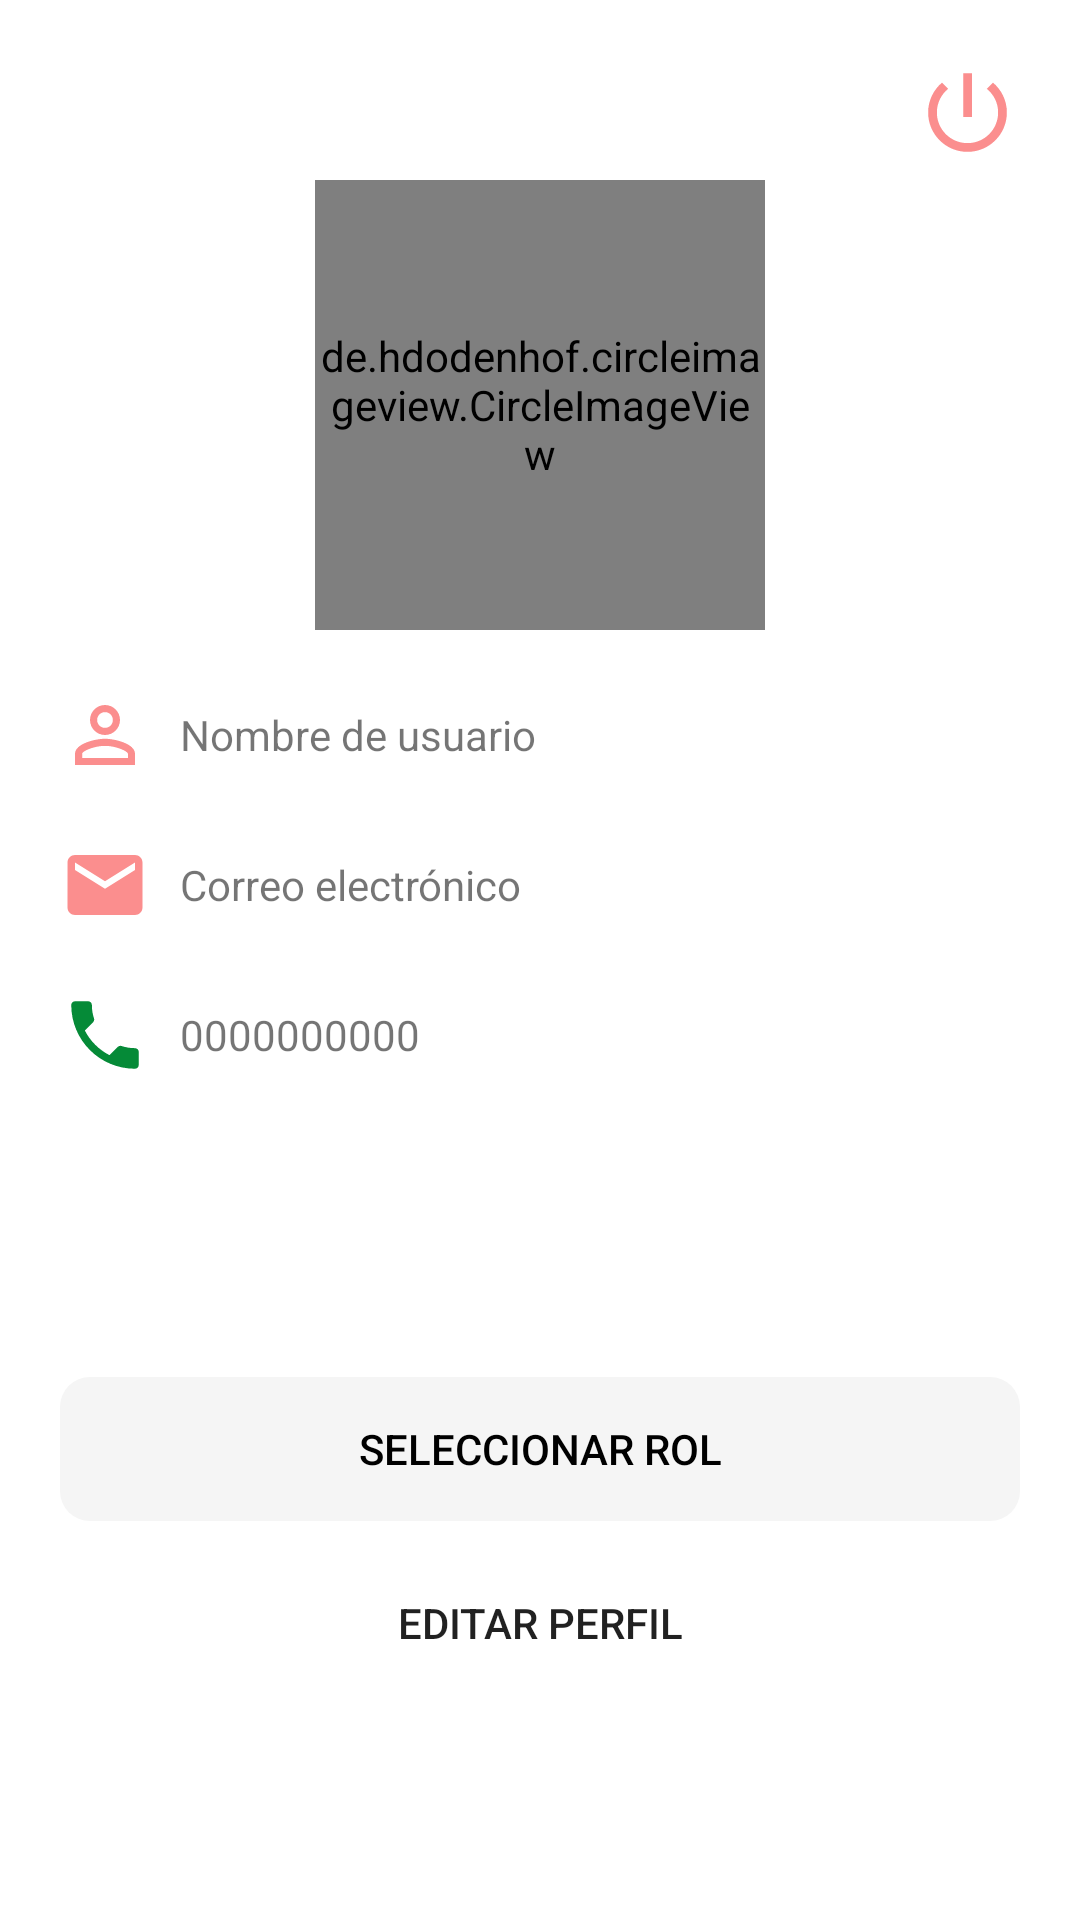

Icons on this 1080w x 1920h Android screen, each with the point to tap as (x,y):
email: (105,885)
local phone: (105,1035)
person: (105,735)
power settings: (967,112)
